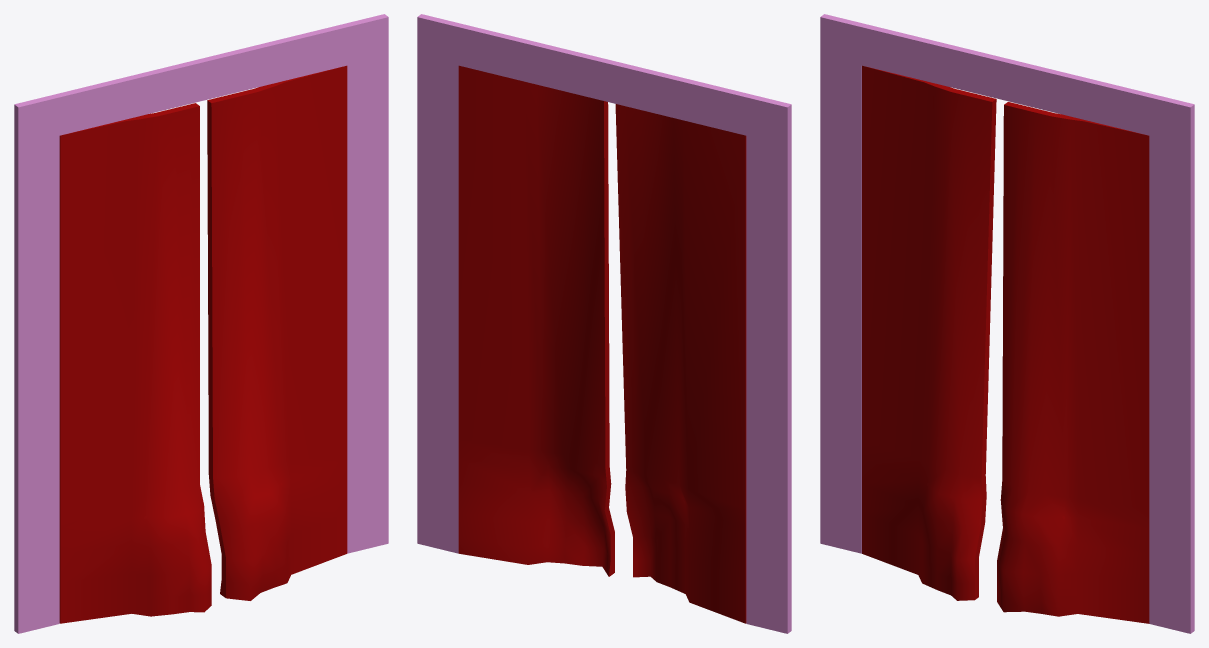
The model's file is porte ascenseur.fbx.
3 views of the same model, side by side, from view 1: azimuth 30°, elevation 25°; view 2: azimuth 150°, elevation 25°; view 3: azimuth 330°, elevation 25° (orthographic).
Parts seen in each view (by area): view 1: Cadre ascenseur; view 2: Cadre ascenseur; view 3: Cadre ascenseur.
Boxes of the visible parts, x1,y1,x2,y2 form: Cadre ascenseur: (14,14,388,633); Cadre ascenseur: (417,14,791,633); Cadre ascenseur: (820,14,1194,633).
Bounding box in the file's own units: 152 × 207 × 20.41.
